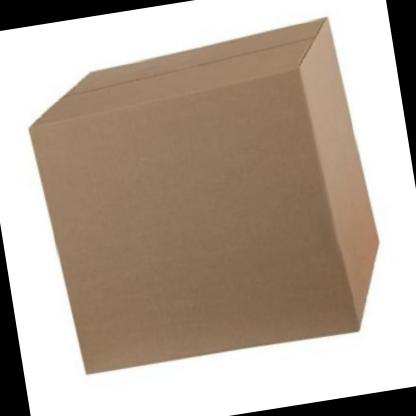box: (18, 13, 395, 382)
